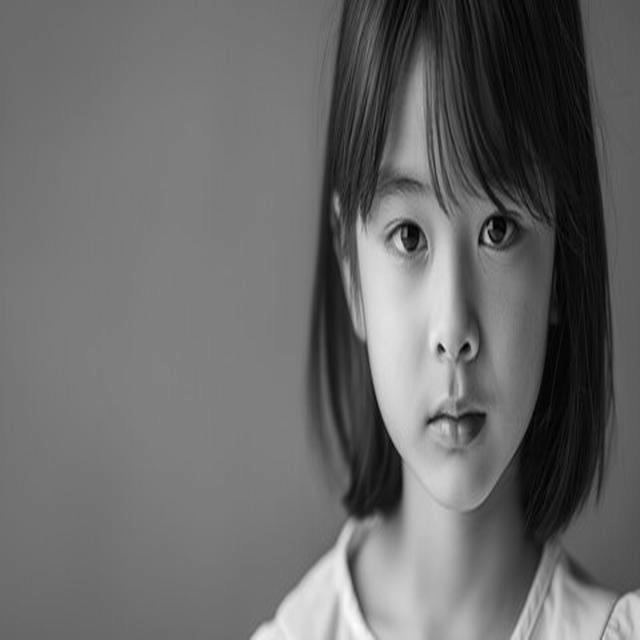Neutral: (358, 44, 556, 510)
